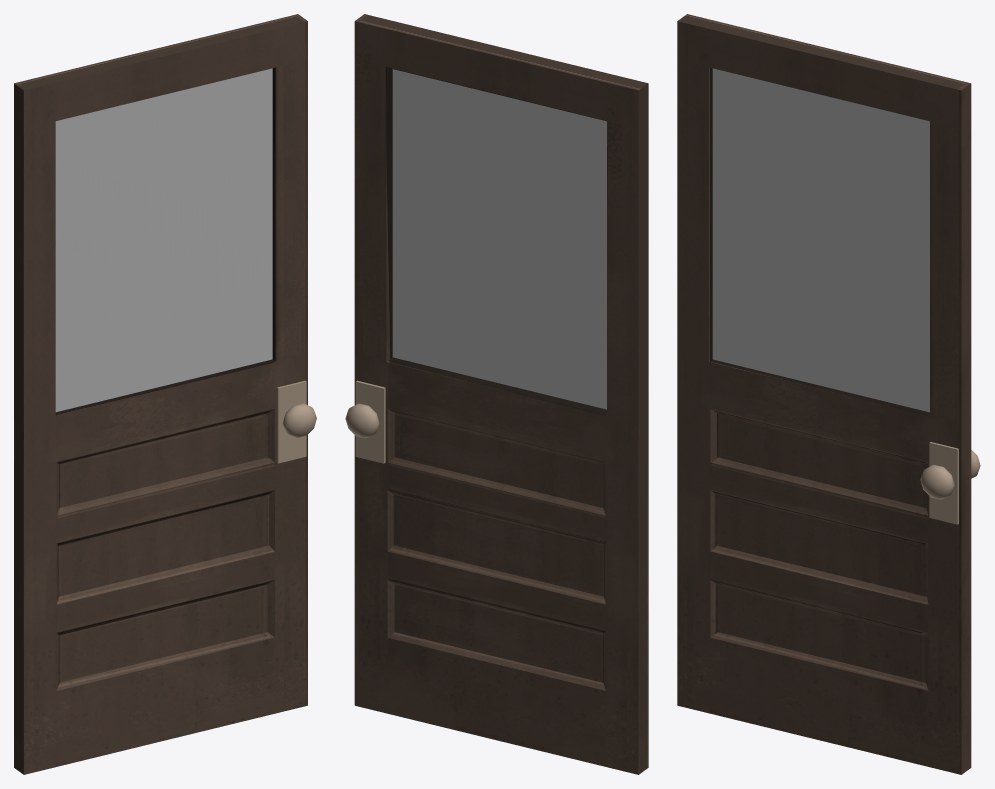
The model's file is door.fbx.
3 views of the same model, side by side, from view 1: azimuth 30°, elevation 25°; view 2: azimuth 150°, elevation 25°; view 3: azimuth 330°, elevation 25° (orthographic).
Visible parts, largest first — view 1: door_frame, door_window, doorknob; view 2: door_frame, door_window, doorknob; view 3: door_frame, door_window, doorknob.
Part boxes in pixels (box(x1,y1,x2,y2)): door_frame: box(14, 14, 307, 774); door_window: box(55, 68, 272, 412); doorknob: box(277, 380, 316, 463); door_frame: box(354, 14, 648, 774); door_window: box(392, 69, 606, 409); doorknob: box(345, 380, 385, 463); door_frame: box(677, 14, 971, 774); door_window: box(712, 68, 929, 412); doorknob: box(920, 442, 980, 524).
Bounding box in the file's own units: 72.15 × 166 × 16.53.
